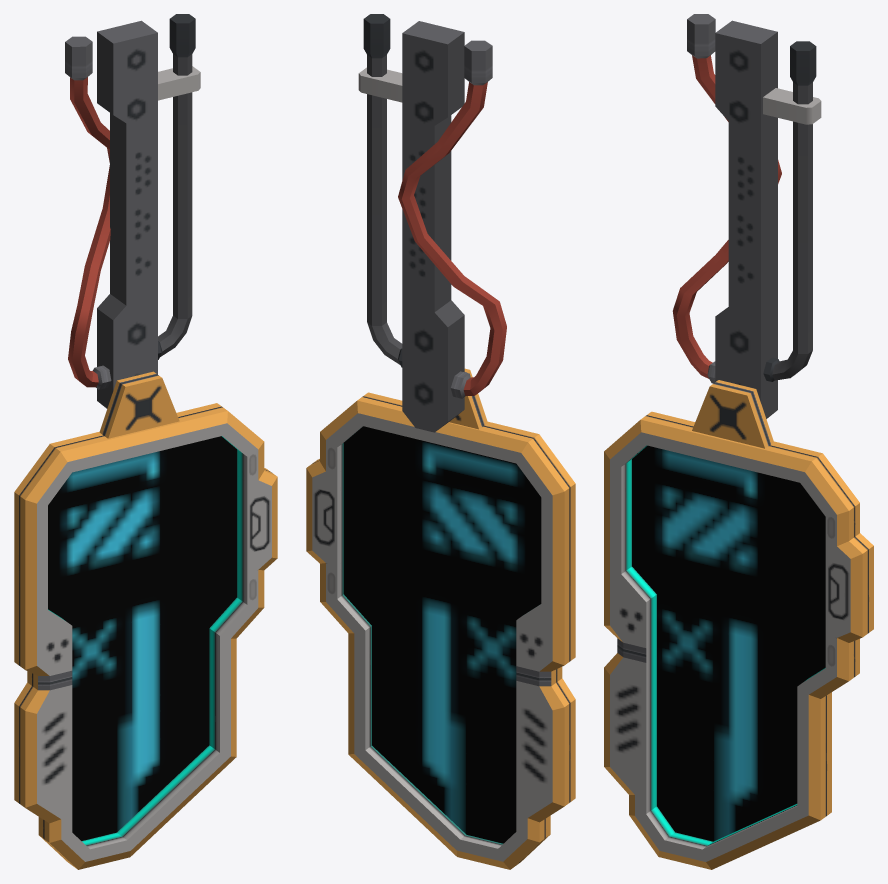
File: SM_Prop_Monitor_05.fbx
The picture shows the model from 3 angles, left to right: view 1: azimuth 30°, elevation 25°; view 2: azimuth 150°, elevation 25°; view 3: azimuth 330°, elevation 25°; orthographic projection. The views are drawn at different scales.
Visible parts, largest first — view 1: SM_Prop_Monitor_05, SM_Prop_Monitor_05_Hologram_01; view 2: SM_Prop_Monitor_05, SM_Prop_Monitor_05_Hologram_01; view 3: SM_Prop_Monitor_05, SM_Prop_Monitor_05_Hologram_01.
Boxes of the visible parts, x1,y1,x2,y2 form: SM_Prop_Monitor_05: (14, 14, 277, 869); SM_Prop_Monitor_05_Hologram_01: (48, 436, 236, 840); SM_Prop_Monitor_05: (306, 14, 575, 869); SM_Prop_Monitor_05_Hologram_01: (343, 426, 541, 843); SM_Prop_Monitor_05: (604, 14, 873, 869); SM_Prop_Monitor_05_Hologram_01: (632, 445, 825, 841).
Size of the model in its own units: 51.29 by 157 by 15.44.
